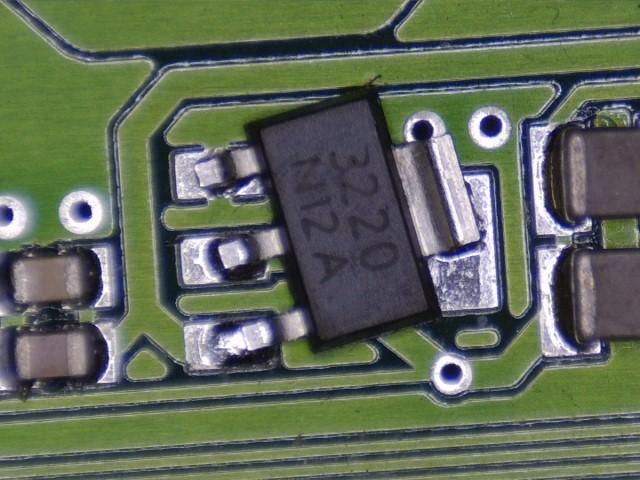Incorrect_installation: (174, 88, 501, 374)
Short_circuit: (392, 111, 499, 312)
